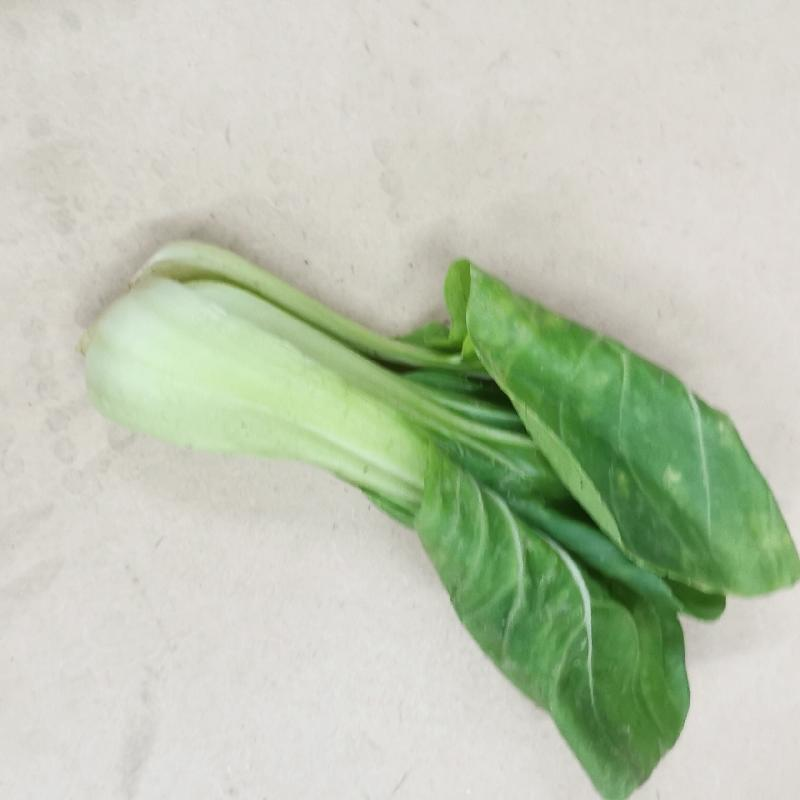green vegatable: (80, 239, 799, 800)
